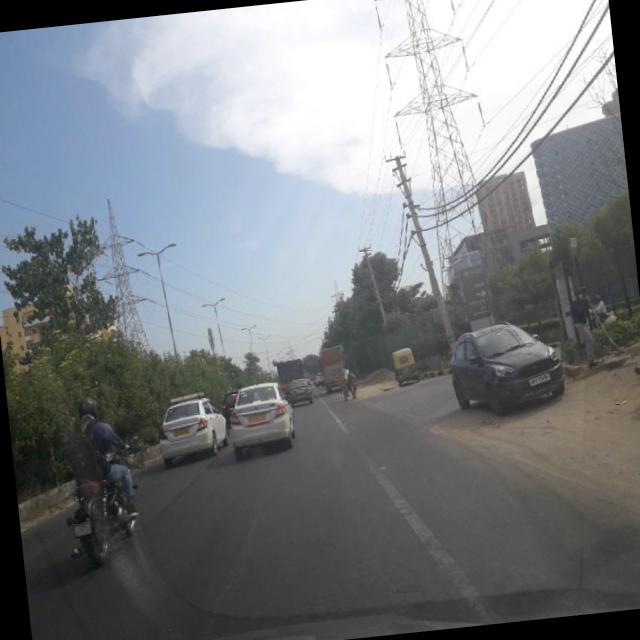crack: (252, 450, 504, 632)
pothole: (178, 478, 276, 636)
